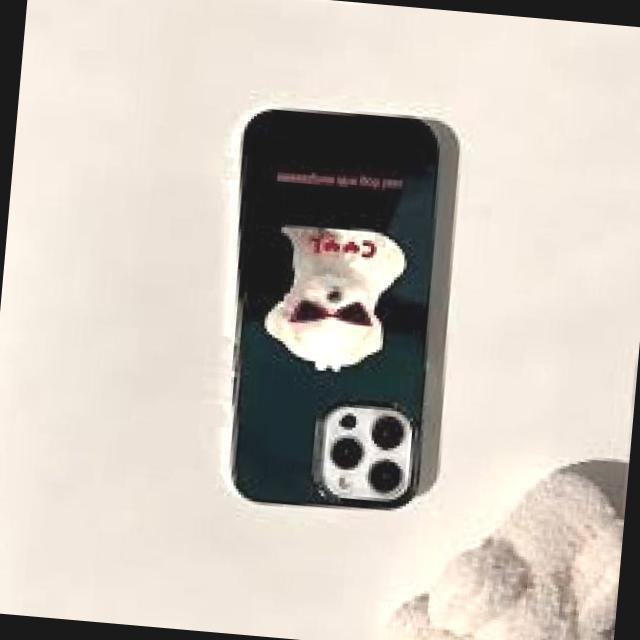lens: (319, 404, 411, 492)
phone: (228, 109, 442, 510)
